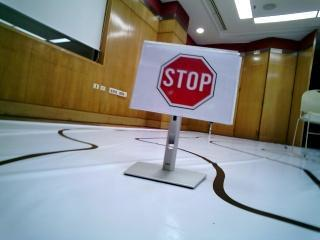stop: (141, 43, 221, 117)
